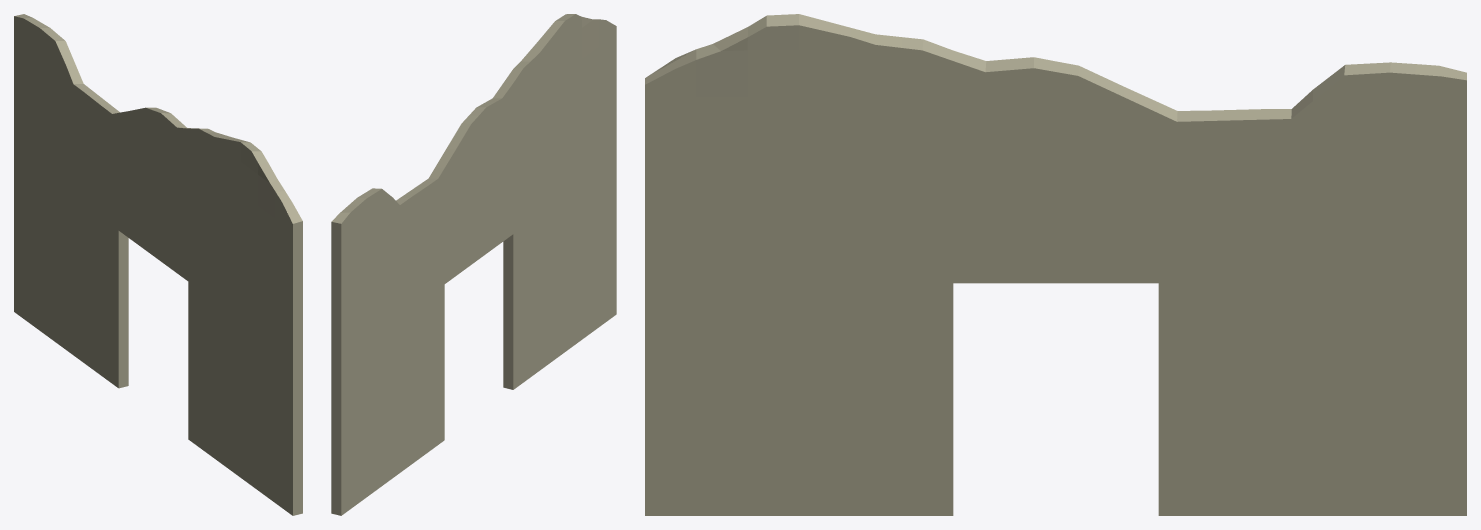
File: WallWithDoorBroken.fbx
3 renders of one model, left to right at view 1: azimuth 30°, elevation 25°; view 2: azimuth 150°, elevation 25°; view 3: azimuth 270°, elevation 25°, orthographic. The views are drawn at different scales.
Visible parts, largest first — view 1: WallWithDoorBroken; view 2: WallWithDoorBroken; view 3: WallWithDoorBroken.
Part boxes in pixels (x1,y1,x2,y2): WallWithDoorBroken: (14, 14, 302, 515); WallWithDoorBroken: (331, 14, 616, 515); WallWithDoorBroken: (645, 14, 1466, 515).
Bounding box in the file's own units: 0.2614 × 7.97 × 12.
